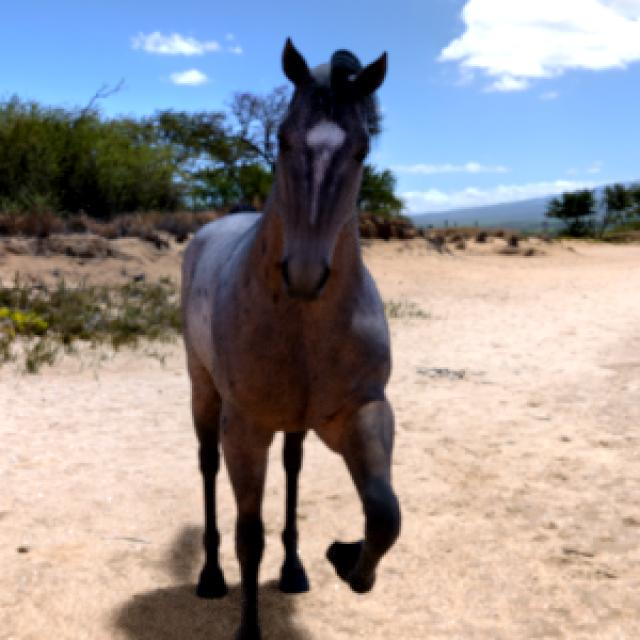horse: (182, 40, 400, 639)
